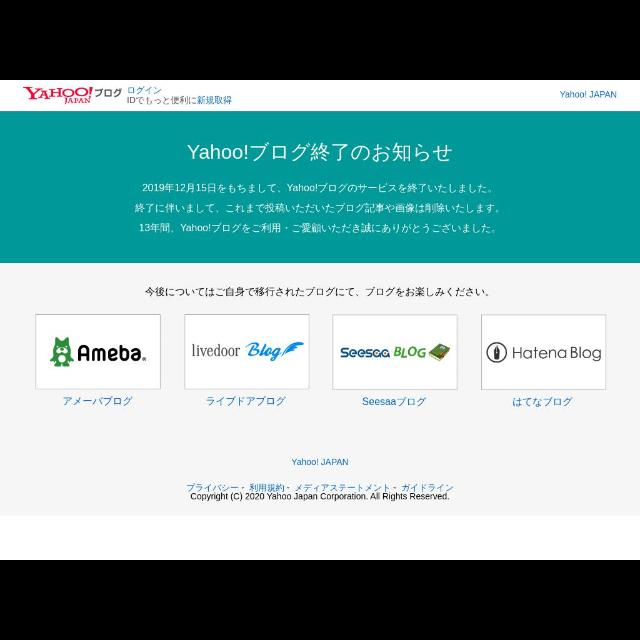image: (332, 314, 458, 390), (482, 314, 606, 390), (36, 314, 160, 388), (185, 315, 309, 389), (22, 86, 232, 105)
text: (135, 183, 499, 234), (184, 142, 453, 162), (186, 483, 454, 501), (144, 286, 490, 298), (207, 396, 285, 406), (63, 396, 133, 406), (363, 398, 425, 407), (511, 398, 573, 407), (560, 90, 618, 98), (292, 458, 348, 466)
